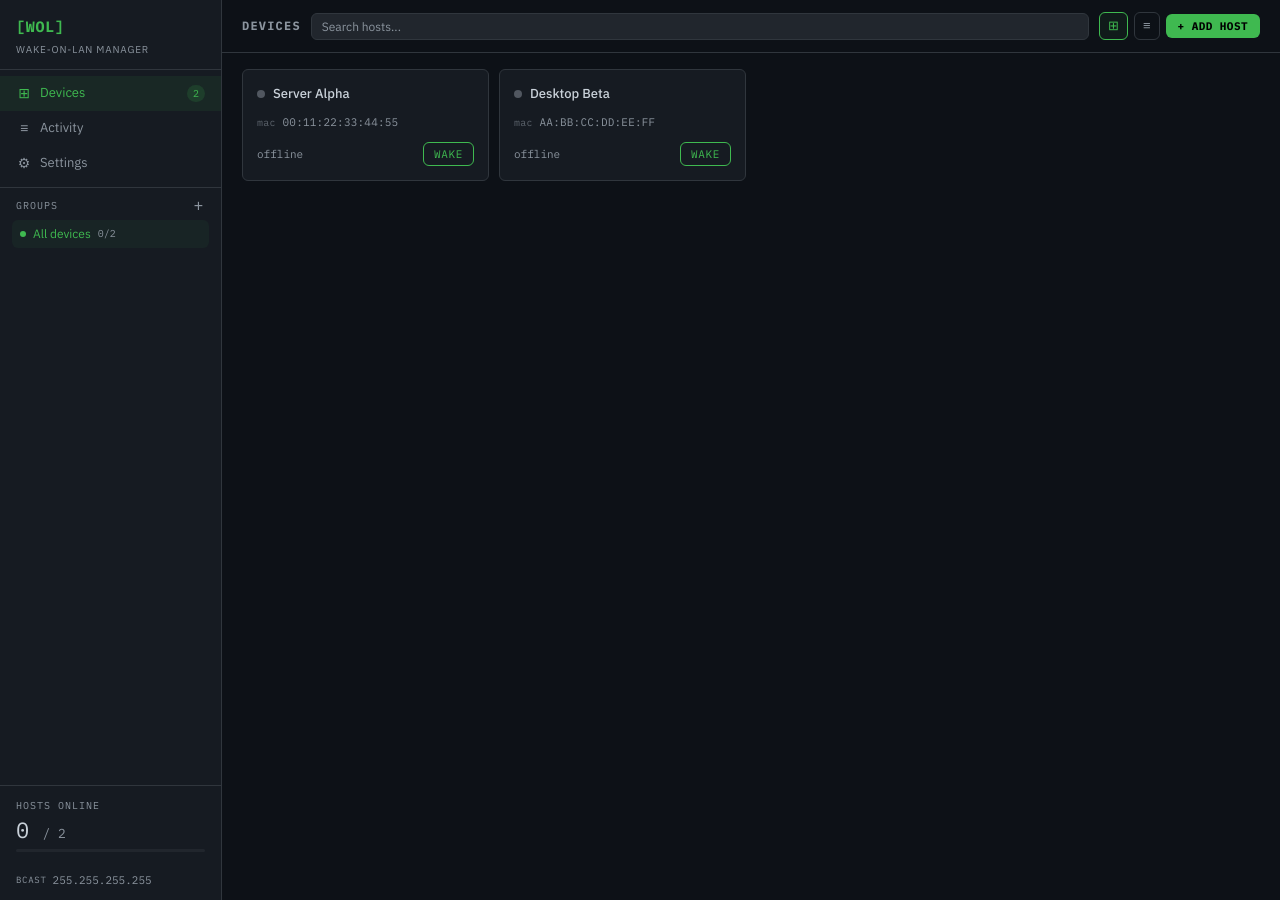
Test: App › search › filters devices by search query
Check: the text "Server Alpha" is shown, box left=273, top=85, right=350, bottom=102
Type "Alpha" into the field with placeholder "Search hosts..." at (700, 26), box left=311, top=13, right=1089, bottom=40
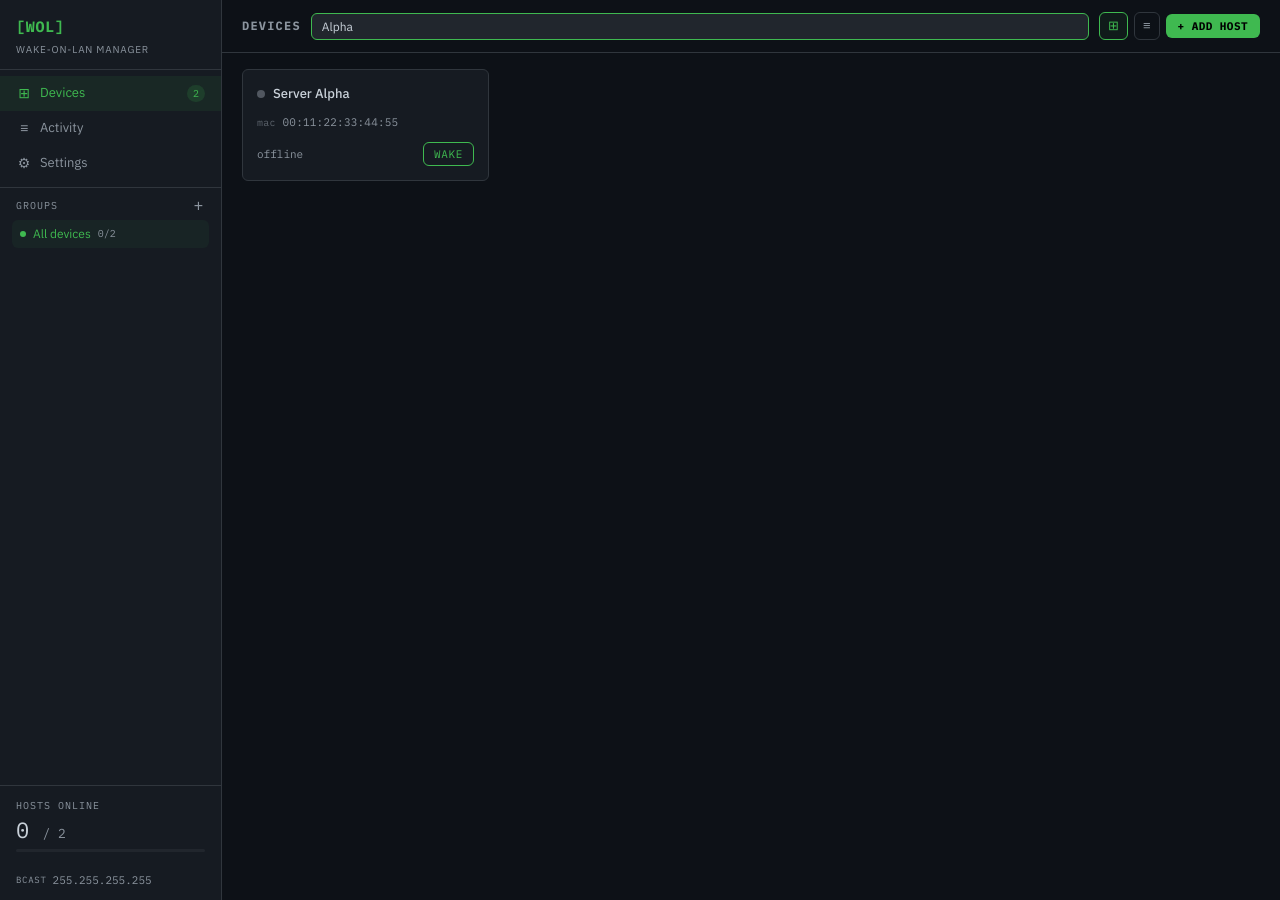
Check: the text "Server Alpha" is shown, box left=273, top=85, right=350, bottom=102
Check: the text "Desktop Beta" is gone
